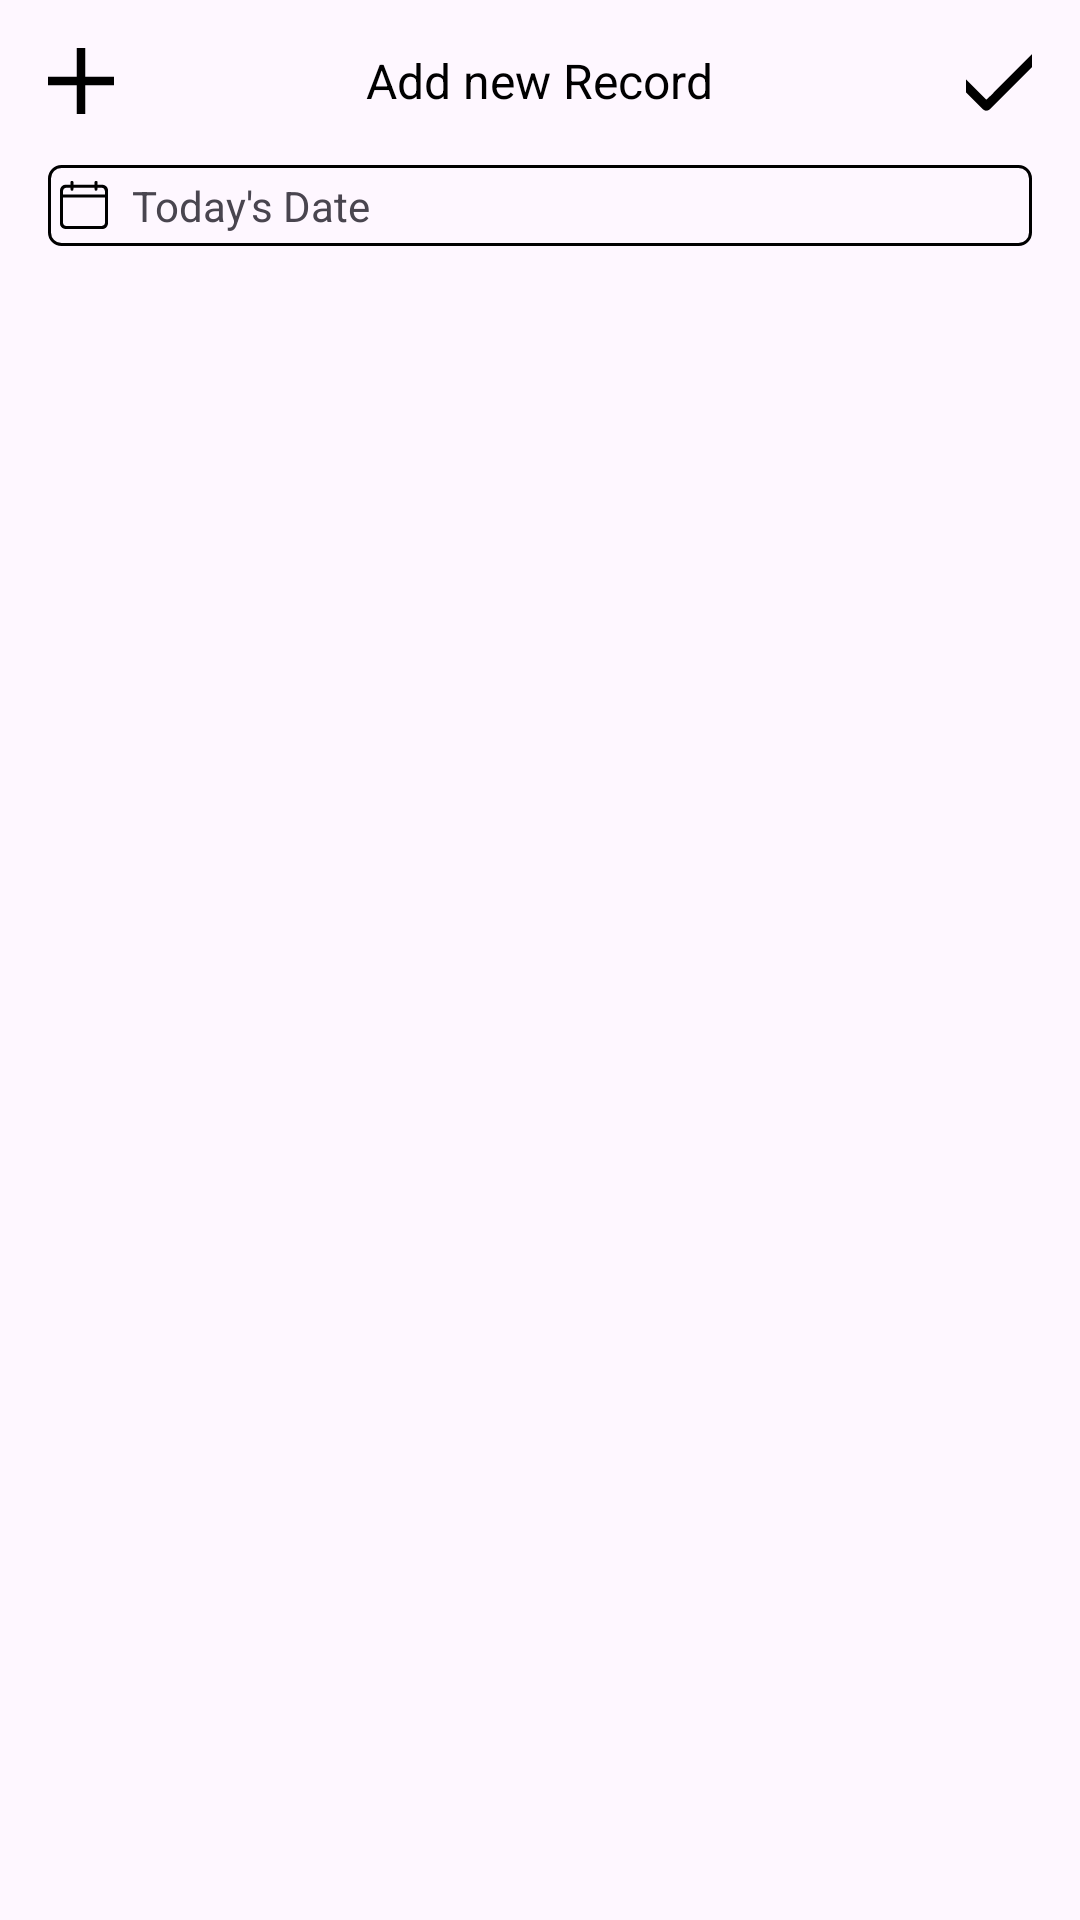

Where icons sit on this 1080w x 1920h app screen, as (x1, y1, x2, y2):
calendar: (60, 181, 108, 229)
check: (966, 54, 1032, 111)
plus: (48, 48, 114, 114)
